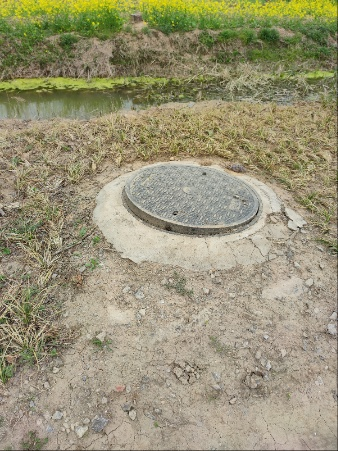good: (123, 165, 265, 236)
